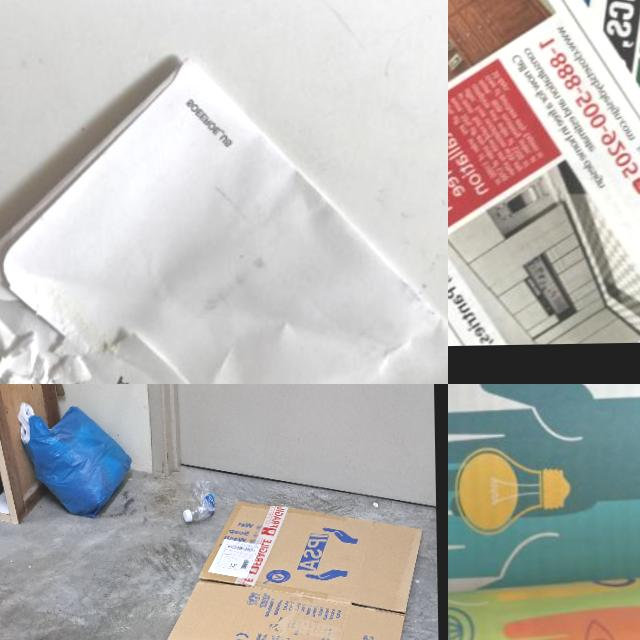garrafa plástica: (180, 478, 215, 522)
papel: (0, 53, 448, 384), (448, 0, 640, 347), (448, 384, 640, 640)
papelão: (165, 498, 421, 640)
sacola plástica: (28, 408, 128, 516)
tampa plástica: (182, 508, 192, 522)
